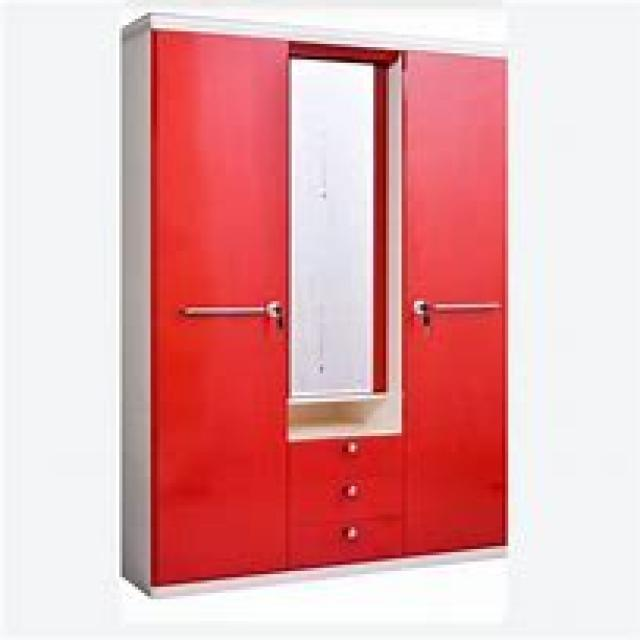dolap: (119, 9, 508, 596)
